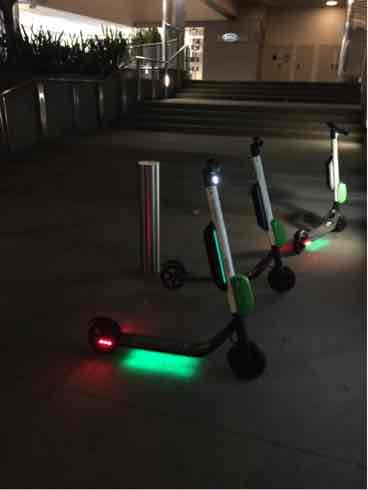scooter: (83, 149, 269, 388), (197, 131, 300, 286)
